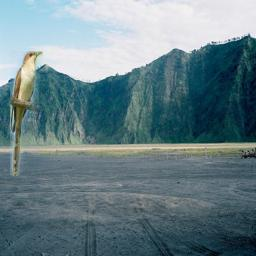Cuckoo: (10, 51, 43, 176)
